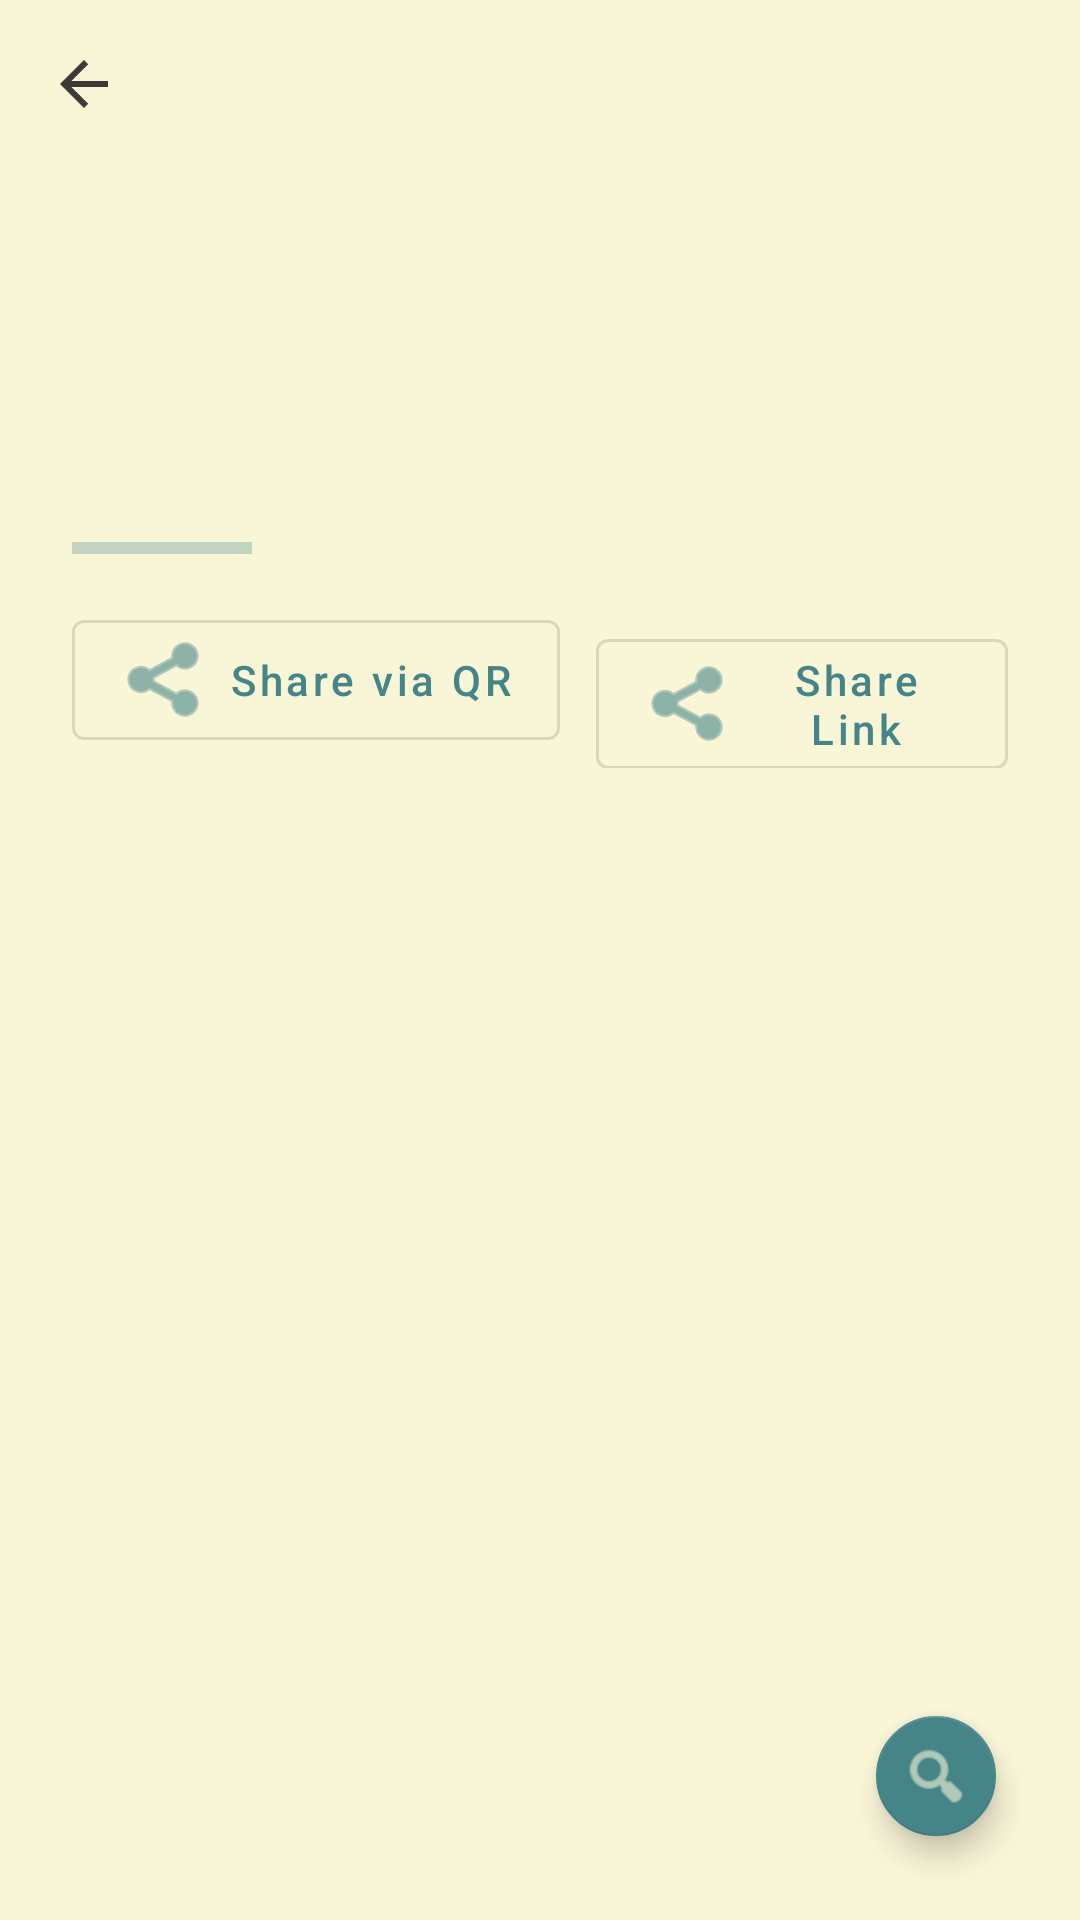

Icon bounding boxes for this 1080w x 1920h phone screenshot, format (left=x1, top=y1, right=x2, bottom=y2):
search: (left=876, top=1716, right=999, bottom=1848)
